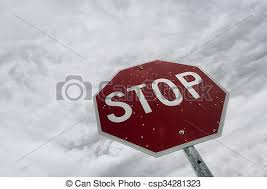Stop: (97, 44, 241, 161)
